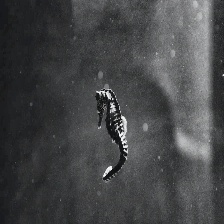seahorse: (95, 76, 129, 182)
